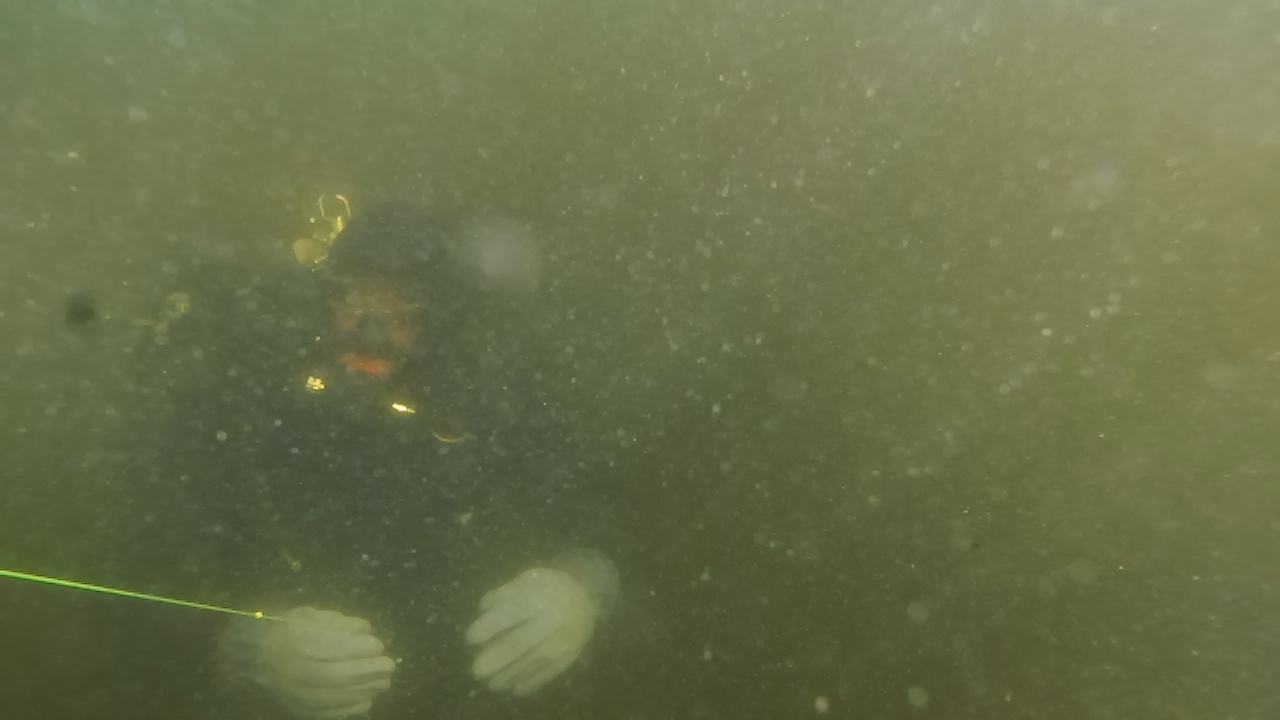Diver: (78, 160, 730, 714)
Hand: (196, 576, 400, 710), (438, 538, 618, 674)
Head: (248, 196, 524, 446)
